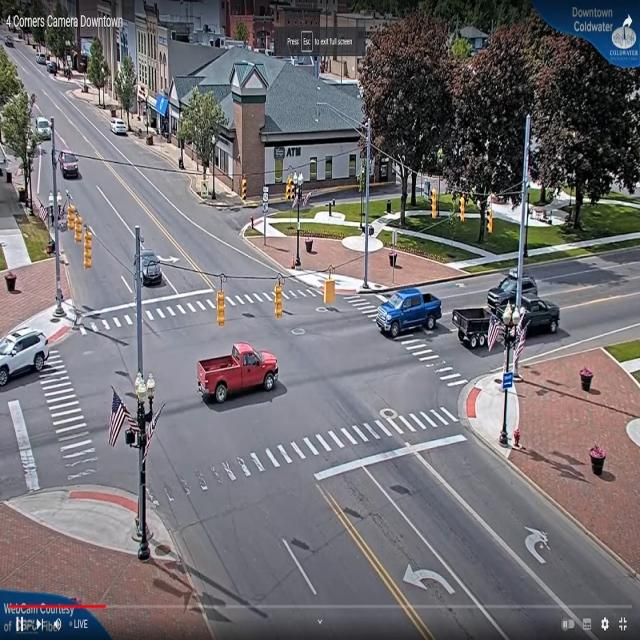car: (199, 342, 280, 407), (374, 288, 441, 338), (0, 332, 50, 391), (138, 250, 164, 286), (60, 152, 80, 180), (112, 120, 129, 136)
